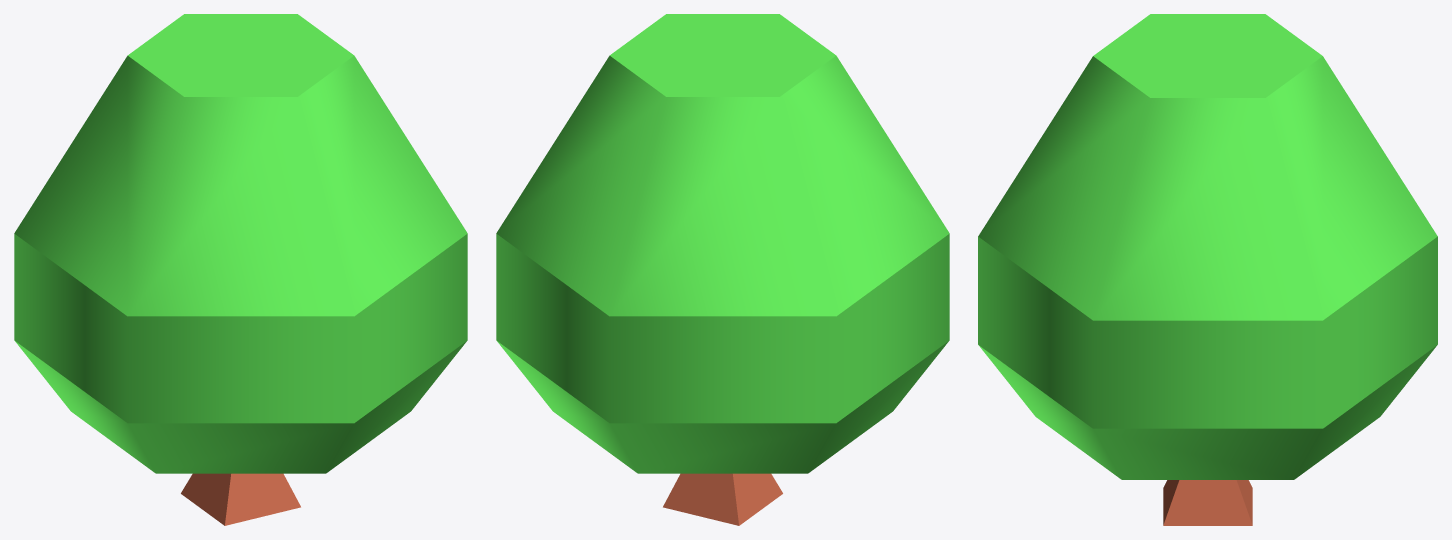
Rendered from Tree.fbx.
The picture shows the model from 3 angles, left to right: view 1: azimuth 30°, elevation 25°; view 2: azimuth 150°, elevation 25°; view 3: azimuth 270°, elevation 25°; orthographic projection.
Parts seen in each view (by area): view 1: mergedBlocks; view 2: mergedBlocks; view 3: mergedBlocks.
Part boxes in pixels (x1=…): mergedBlocks: x1=14, y1=14, x2=467, y2=525; mergedBlocks: x1=496, y1=14, x2=949, y2=525; mergedBlocks: x1=978, y1=14, x2=1437, y2=525.
Size of the model in its own units: 20 by 25 by 23.09.
